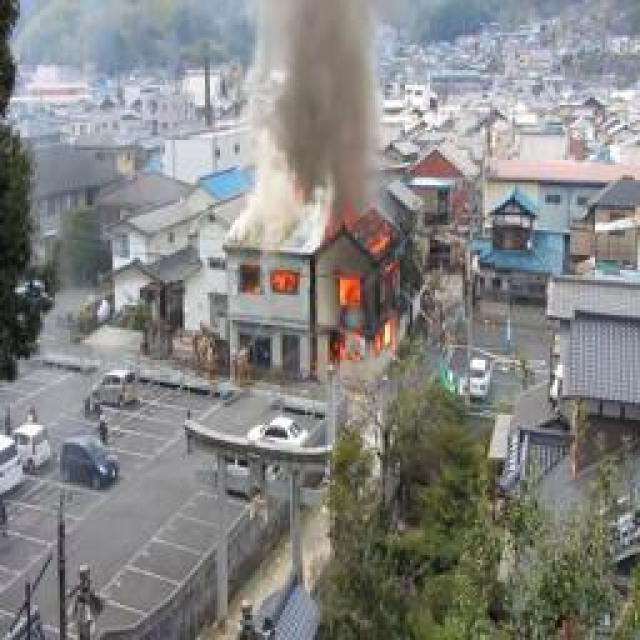Fire: (330, 225, 405, 361), (261, 269, 304, 303)
